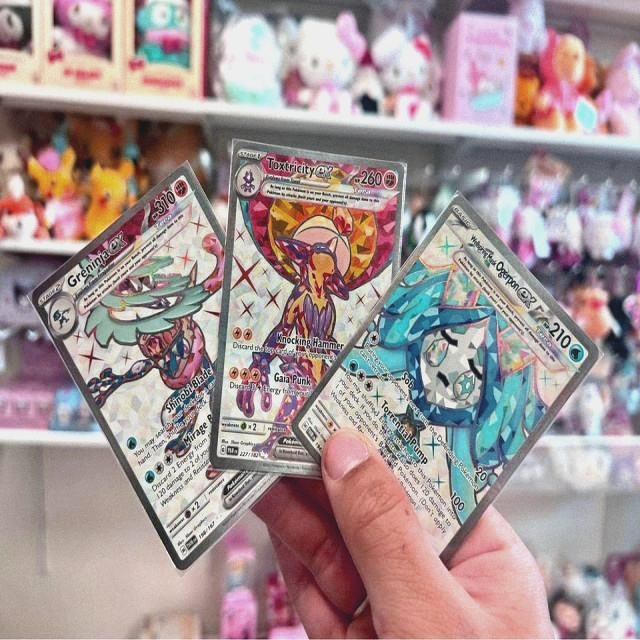card: (292, 195, 599, 565), (30, 163, 283, 572), (209, 141, 406, 479)
